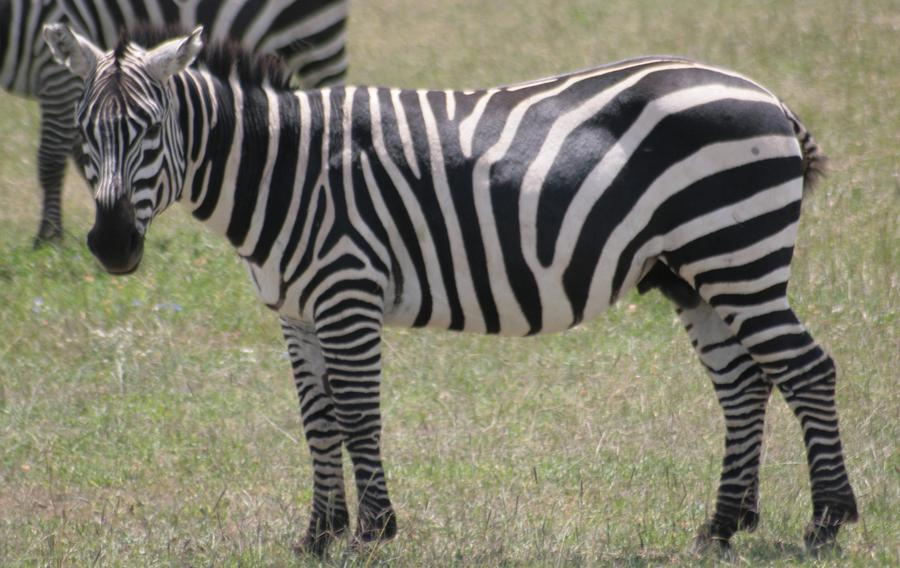zebra_plains: (264, 66, 776, 299)
